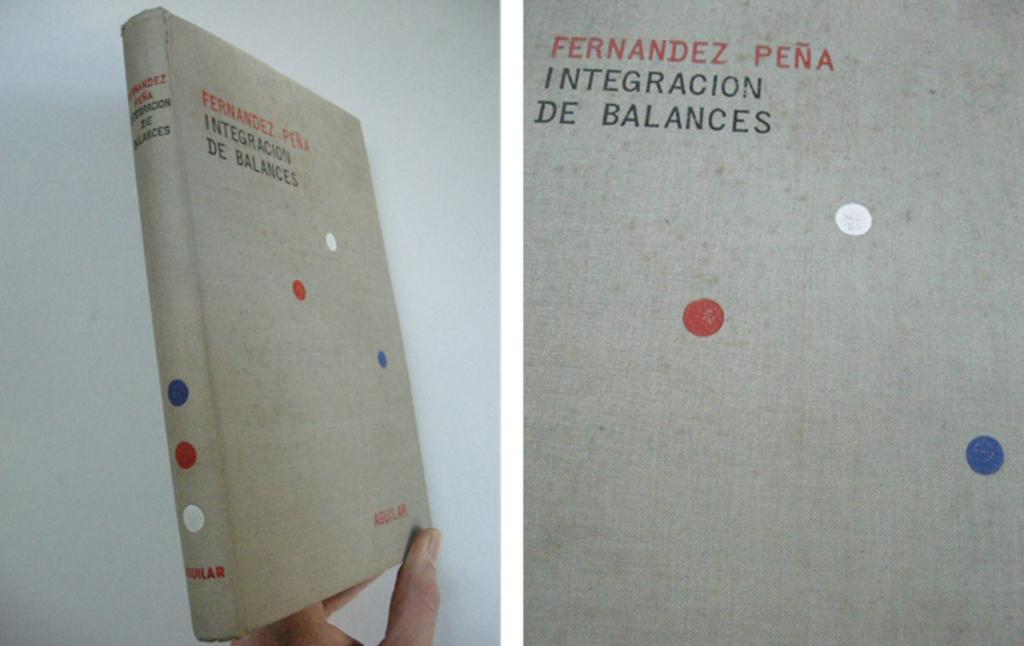book: (122, 6, 430, 644)
